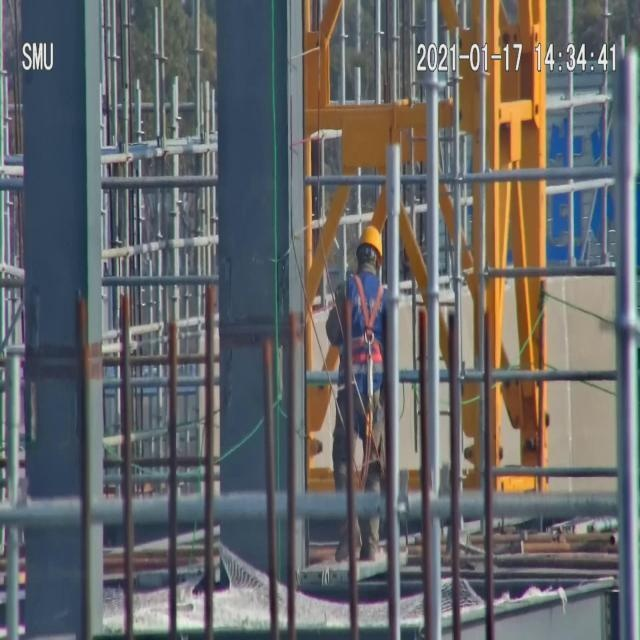Arnes_seguridad: (339, 267, 389, 385)
